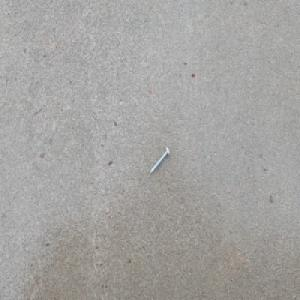Nail: (149, 145, 170, 175)
